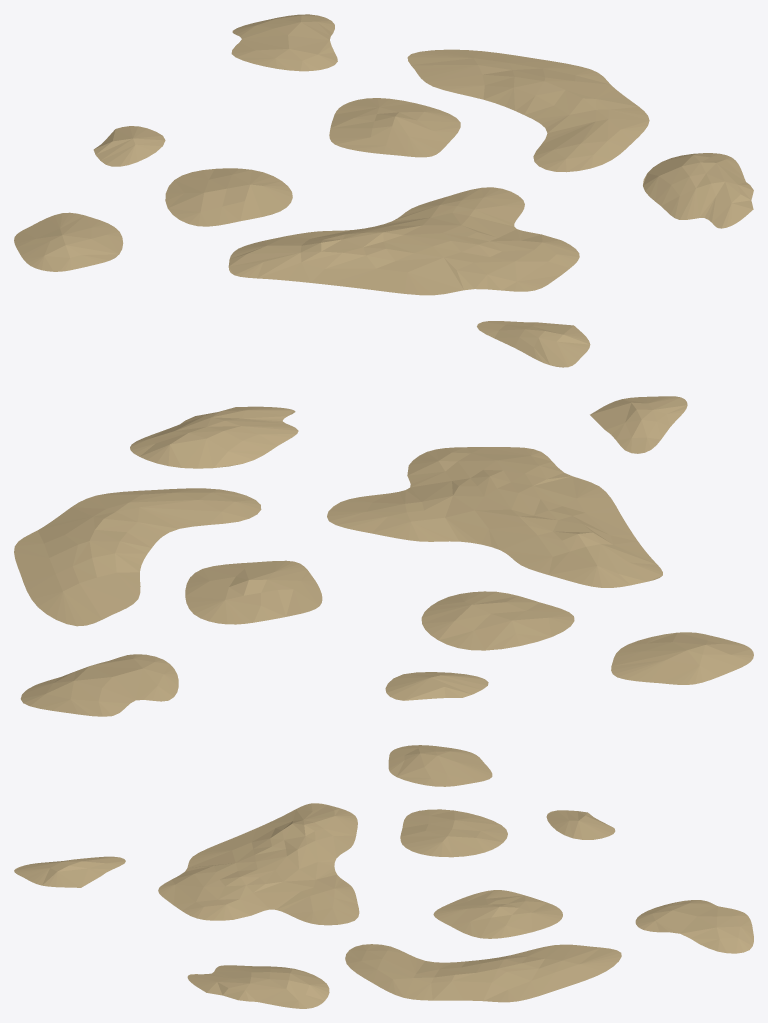
File: SM_Env_Beach_Piles_01.glb
3 renders of one model, top to bottom at view 1: azimuth 30°, elevation 25°; view 2: azimuth 150°, elevation 25°; view 3: azimuth 270°, elevation 25°, orthographic. The views are drawn at different scales.
Visible parts, largest first — view 1: SM_Env_Beach_Piles_01_part00; view 2: SM_Env_Beach_Piles_01_part00; view 3: SM_Env_Beach_Piles_01_part00.
Part boxes in pixels (x1,y1,x2,y2): SM_Env_Beach_Piles_01_part00: [14, 14, 753, 367]; SM_Env_Beach_Piles_01_part00: [14, 396, 753, 716]; SM_Env_Beach_Piles_01_part00: [14, 745, 753, 1008].
Size of the model in its own units: 11.75 by 0.4516 by 13.95.
1 material, 1 textured.
